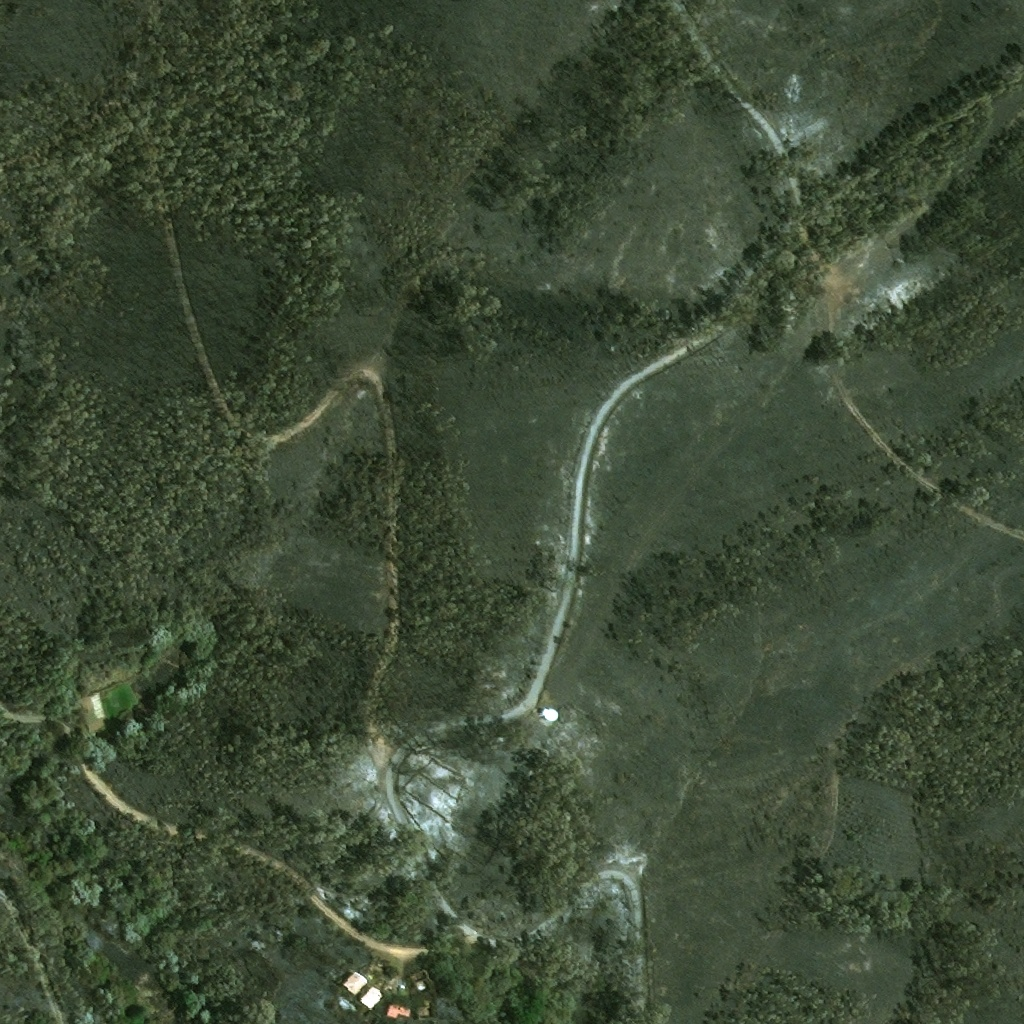0 no-damage: (343, 970, 368, 995), (360, 985, 384, 1010), (387, 1000, 413, 1019), (544, 708, 558, 721)
3 destroyed: (418, 1003, 440, 1022), (416, 970, 431, 991)
